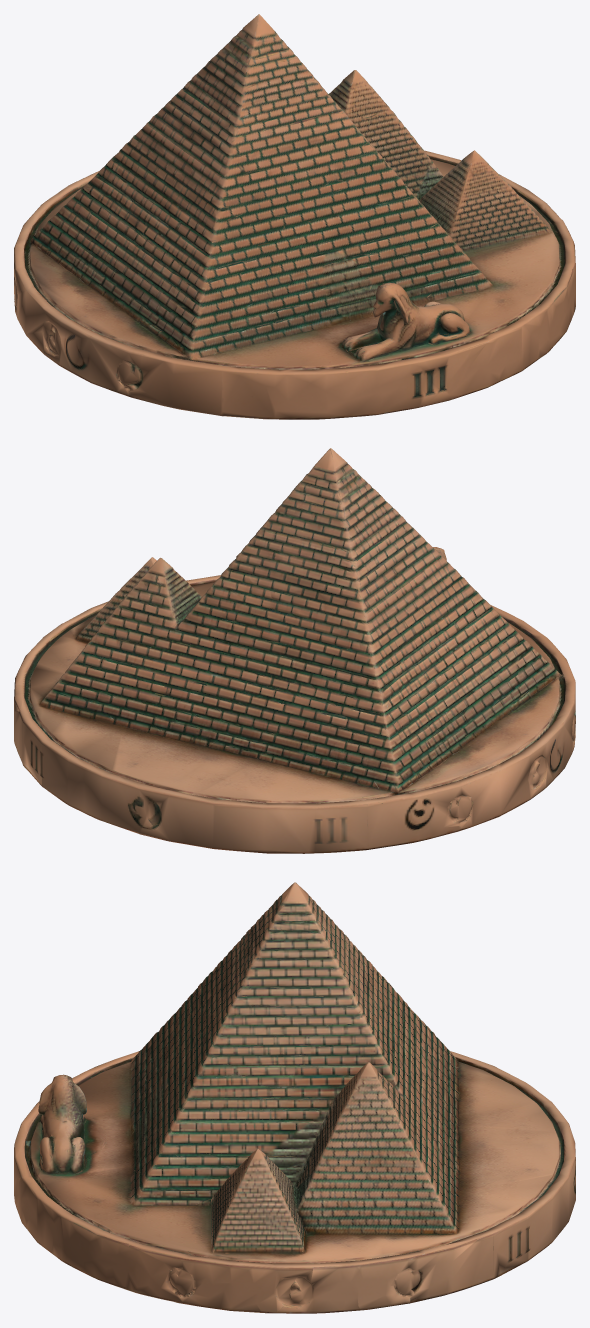
File: pyramid_giza_bronze.glb
3 renders of one model, top to bottom at view 1: azimuth 30°, elevation 25°; view 2: azimuth 150°, elevation 25°; view 3: azimuth 270°, elevation 25°, orthographic.
Parts seen in each view (by area): view 1: Mesh_0; view 2: Mesh_0; view 3: Mesh_0.
Part boxes in pixels (x1,y1,x2,y2): Mesh_0: (14,14,575,419); Mesh_0: (14,448,575,853); Mesh_0: (14,882,575,1313).
Bounding box in the file's own units: 1.91 × 1.11 × 1.91.
Materials: 1 (1 with a texture image).
